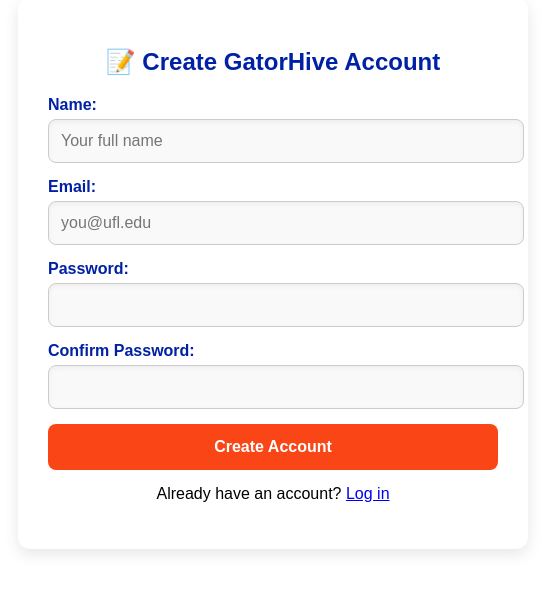
Signup Component › submits successfully with valid data
Step 1. Type "Alice" into the field labelled "Name:" → (286, 141), box [48,119,524,163]
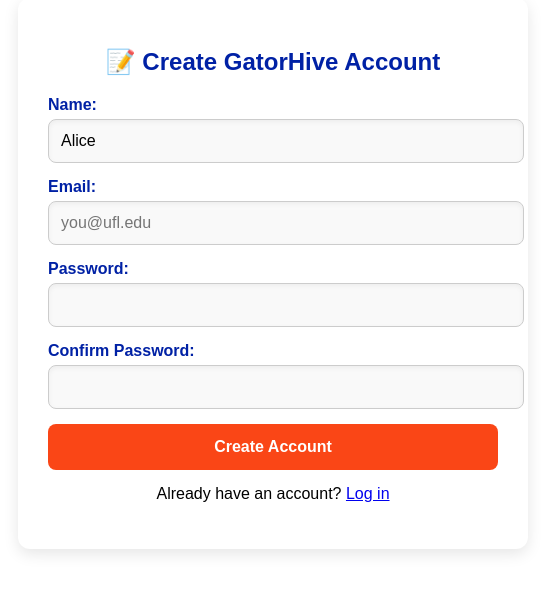
Step 2. Type "alice@ufl.edu" into the field labelled "Email:" → (286, 223), box [48,201,524,245]
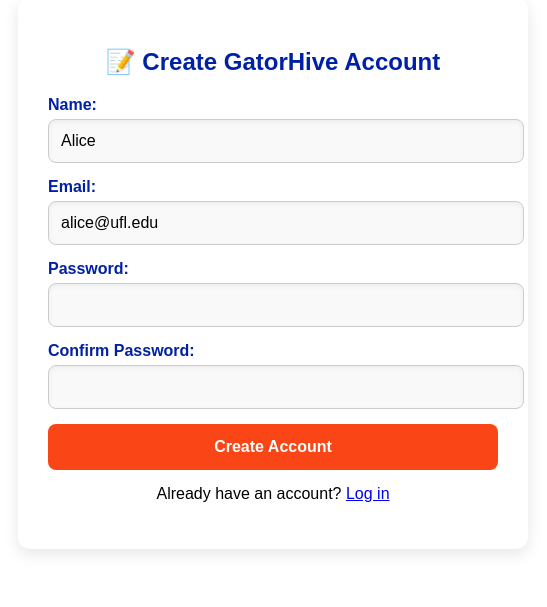
Step 3. Type "test123" into the password field labelled "Password:" → (286, 305), box [48,283,524,327]
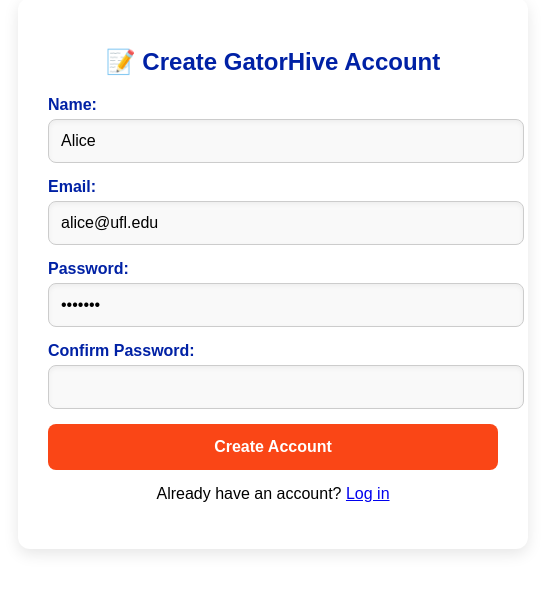
Step 4. Type "test123" into the password field labelled "Confirm Password:" → (286, 387), box [48,365,524,409]
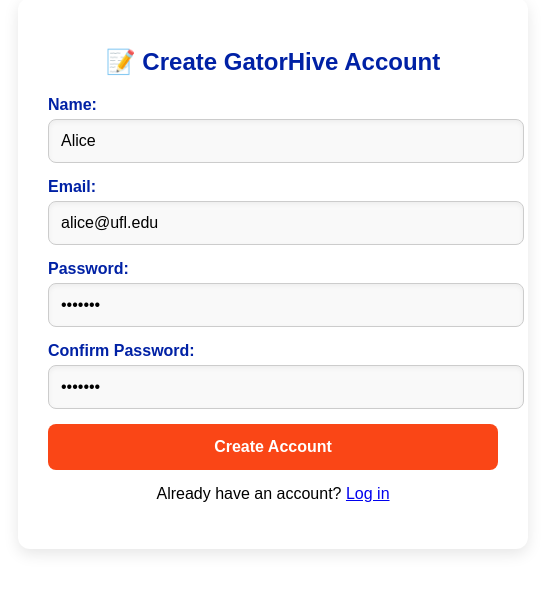
Step 5. Click the button "Create Account" → (273, 447), box [48,424,498,470]
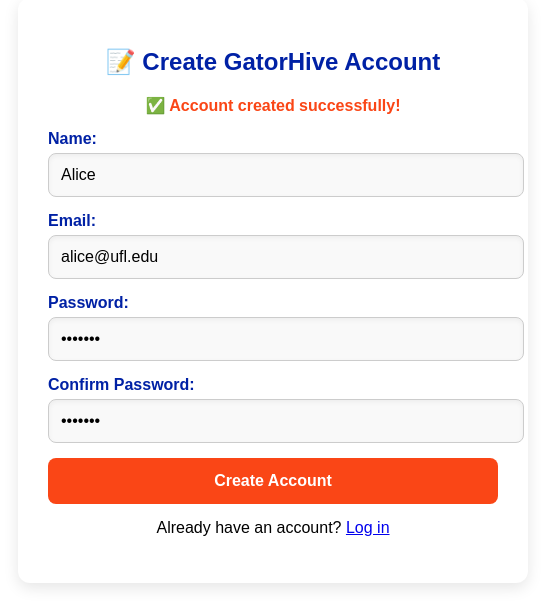
Result: the text "✅ Account created successfully!" is shown at [146,97,400,114]
